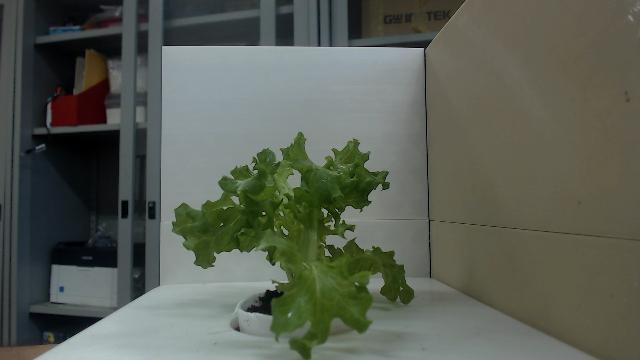Harvest Stage: (172, 130, 414, 360)
